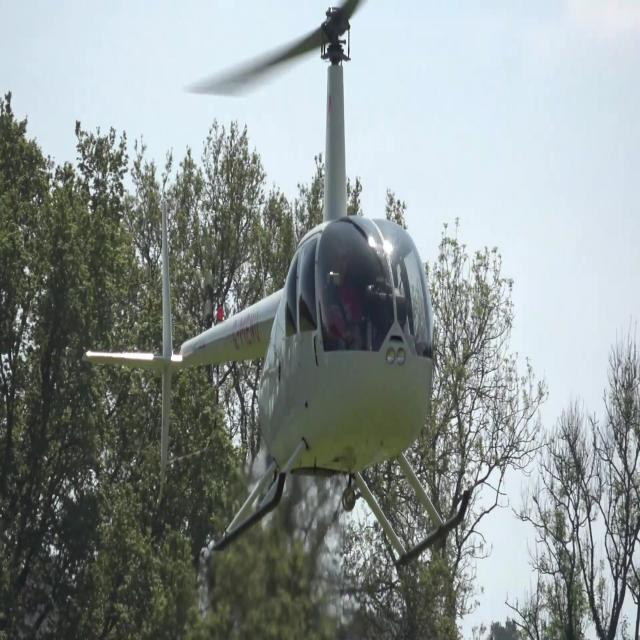CIV_HELO: (78, 8, 473, 577)
